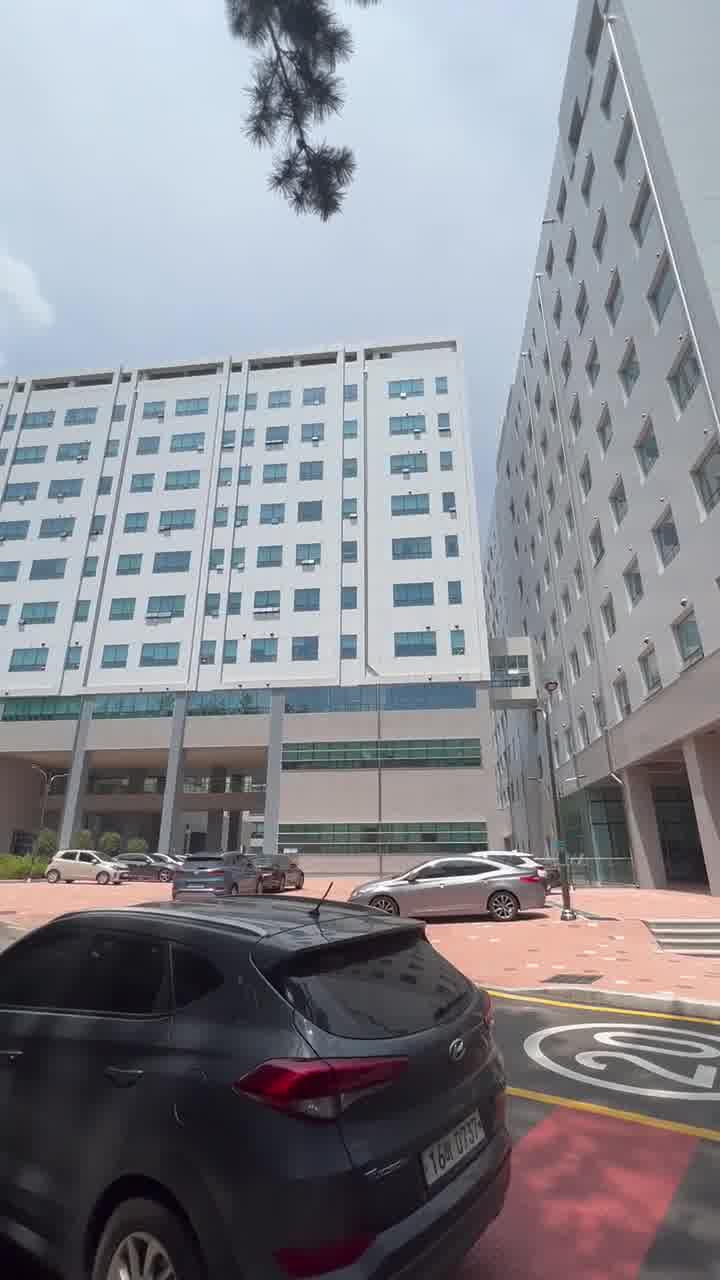low: (20, 336, 516, 824)
